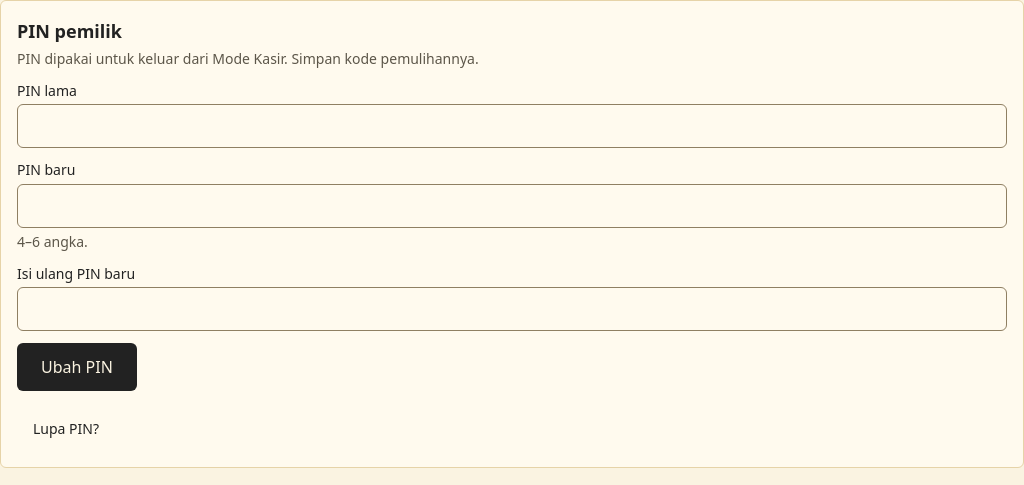
Test: Lupa PIN? di Pengaturan › kode salah: pesan sisa percobaan di bawah field kode, PIN tidak berubah
The image size is (1024, 485).
Click the button "Lupa PIN?": x=66, y=429 x1=17 y1=407 x2=115 y2=451
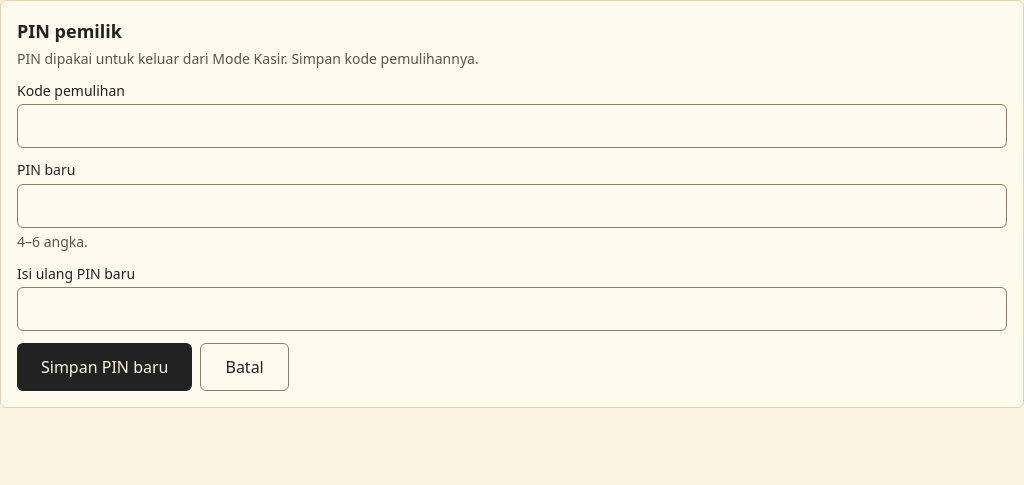
In the field labelled "Kode pemulihan": x=512, y=126 x1=17 y1=104 x2=1007 y2=148, type "SALAH-SALAH"
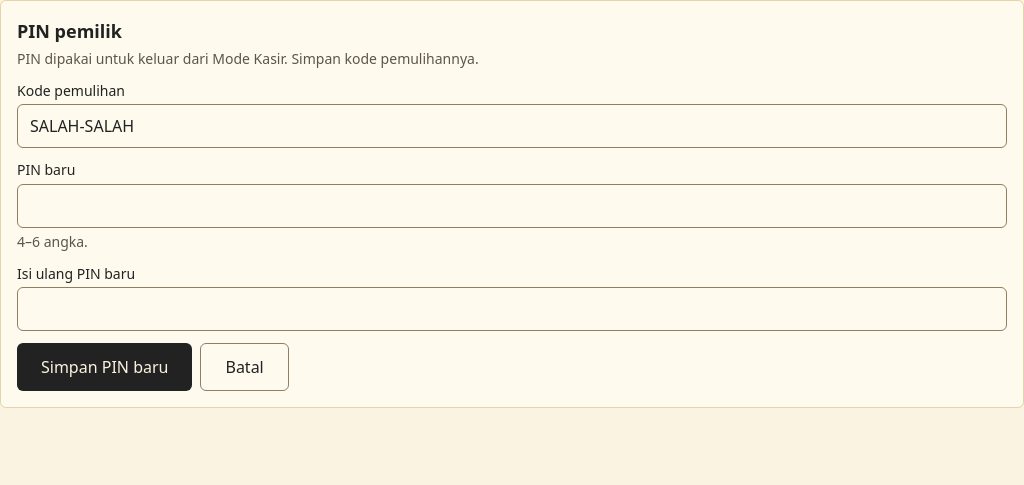
In the password field labelled "PIN baru": x=512, y=206 x1=17 y1=184 x2=1007 y2=228, type "2468"
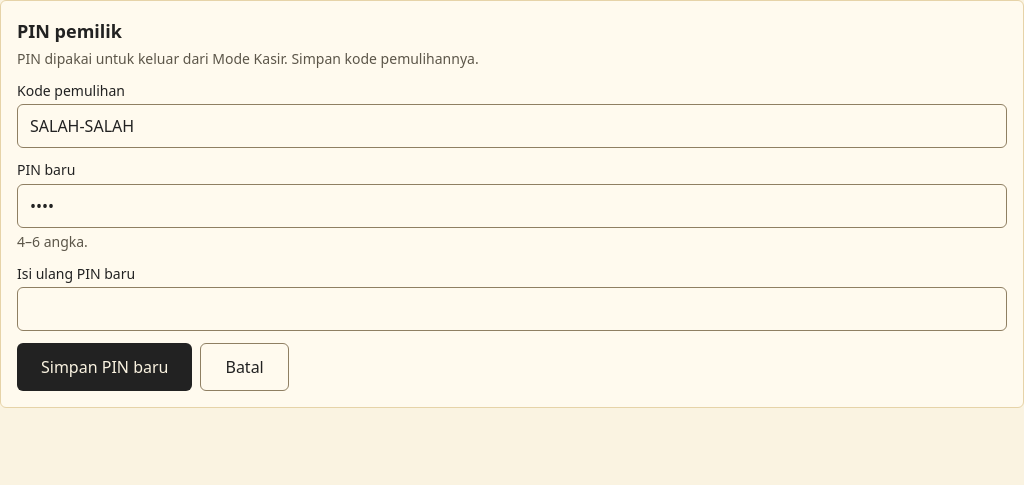
In the password field labelled "Isi ulang PIN baru": x=512, y=309 x1=17 y1=287 x2=1007 y2=331, type "2468"
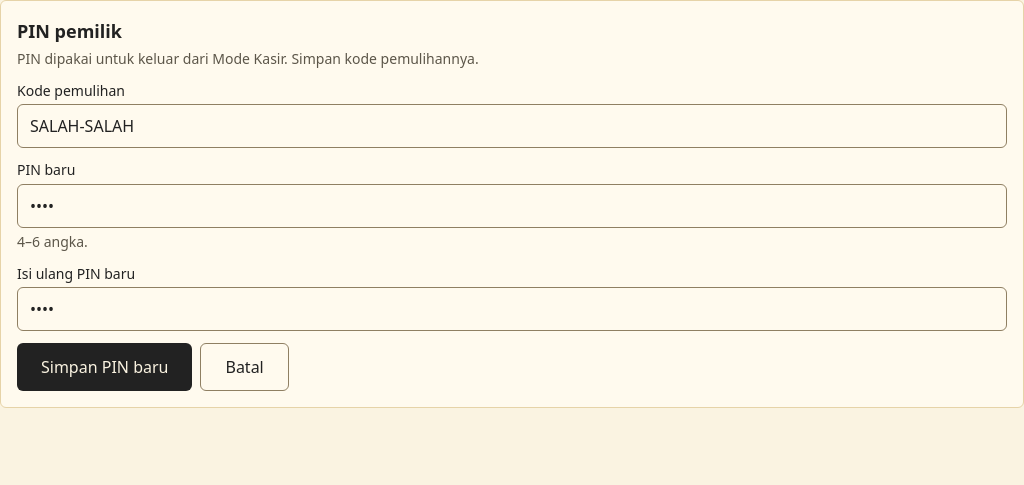
Click the button "Simpan PIN baru": x=105, y=367 x1=17 y1=343 x2=192 y2=391
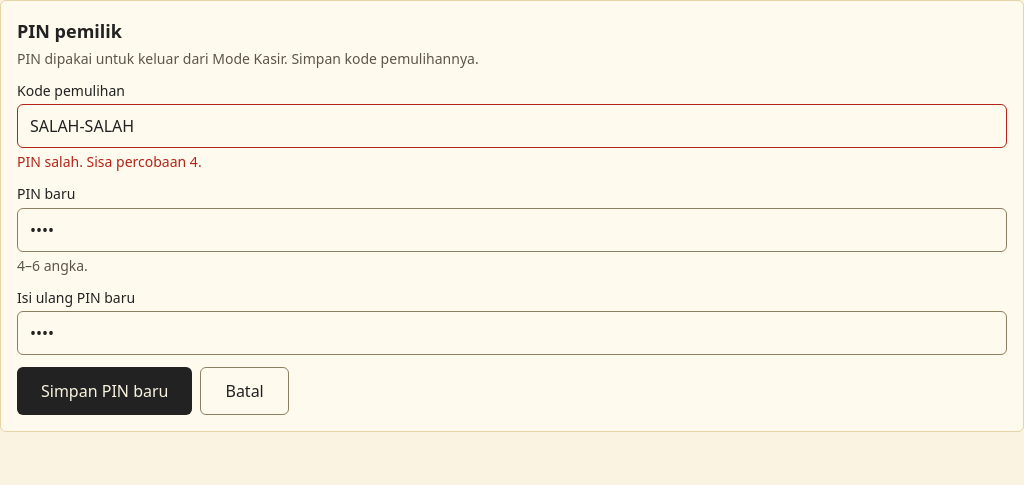
Expected: the text "PIN salah. Sisa percobaan 4." is shown, x1=17 y1=152 x2=202 y2=171
